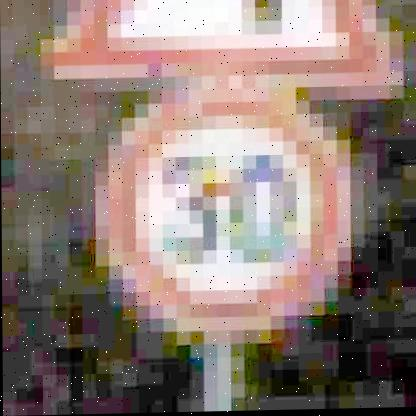Speed Limit -30-: (101, 84, 348, 337)
